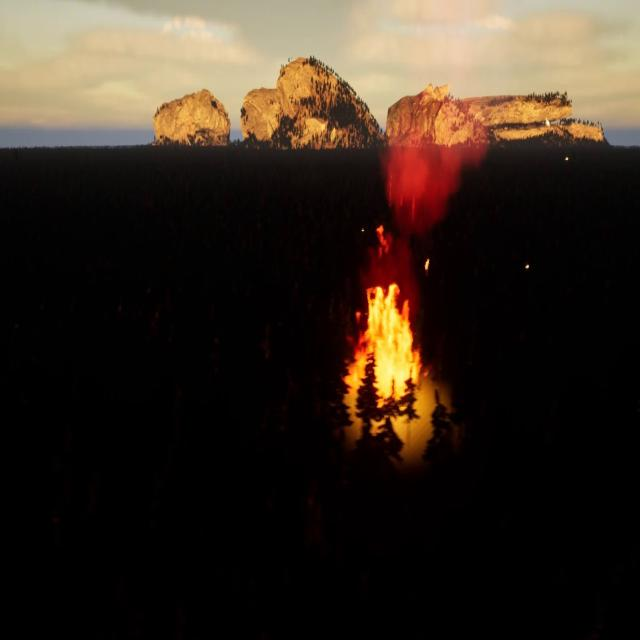fire: (345, 282, 426, 406)
smoke: (367, 99, 484, 260)
